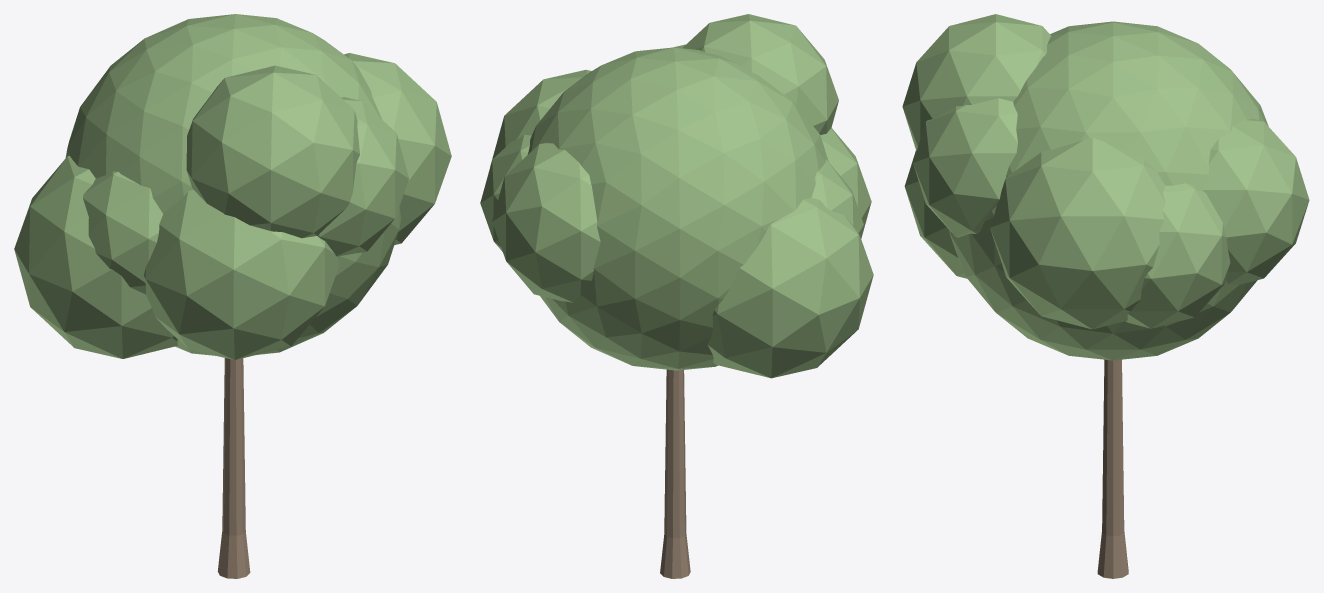
File: tree.glb
The picture shows the model from 3 angles, left to right: view 1: azimuth 30°, elevation 25°; view 2: azimuth 150°, elevation 25°; view 3: azimuth 270°, elevation 25°; orthographic projection. The views are drawn at different scales.
Visible parts, largest first — view 1: tree_leaf, tree_bark; view 2: tree_leaf, tree_bark; view 3: tree_leaf, tree_bark.
Part boxes in pixels (x1,y1,x2,y2): tree_leaf: [14, 14, 451, 359]; tree_bark: [217, 358, 250, 578]; tree_leaf: [480, 14, 873, 378]; tree_bark: [660, 369, 690, 578]; tree_leaf: [902, 14, 1309, 360]; tree_bark: [1097, 359, 1128, 578].
Size of the model in its own units: 4.99 by 6.64 by 4.53.
